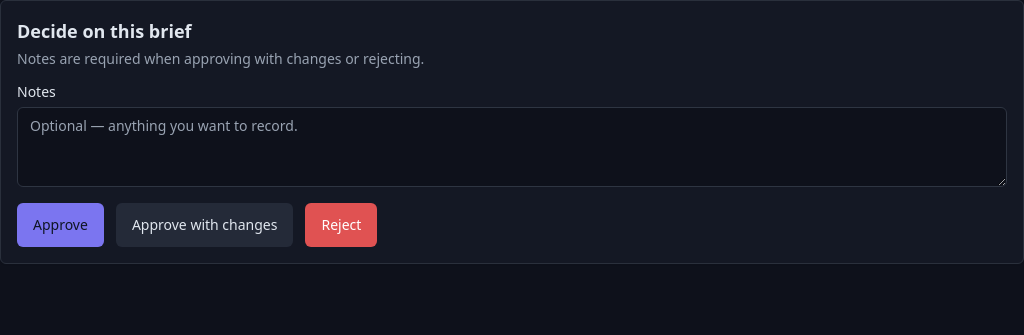
Test: ApprovalGate › displays the response error body on a 4xx/5xx failure
Click the button "Approve" at (60, 225), box [17,203,104,247]
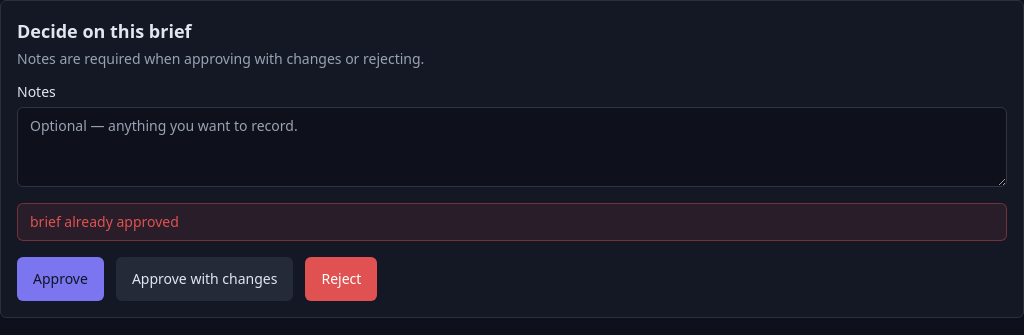
expect the text "brief already approved" is shown: met, box [17,203,1007,241]
